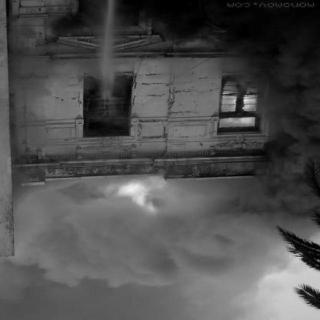Smoke: (16, 240, 257, 318)
